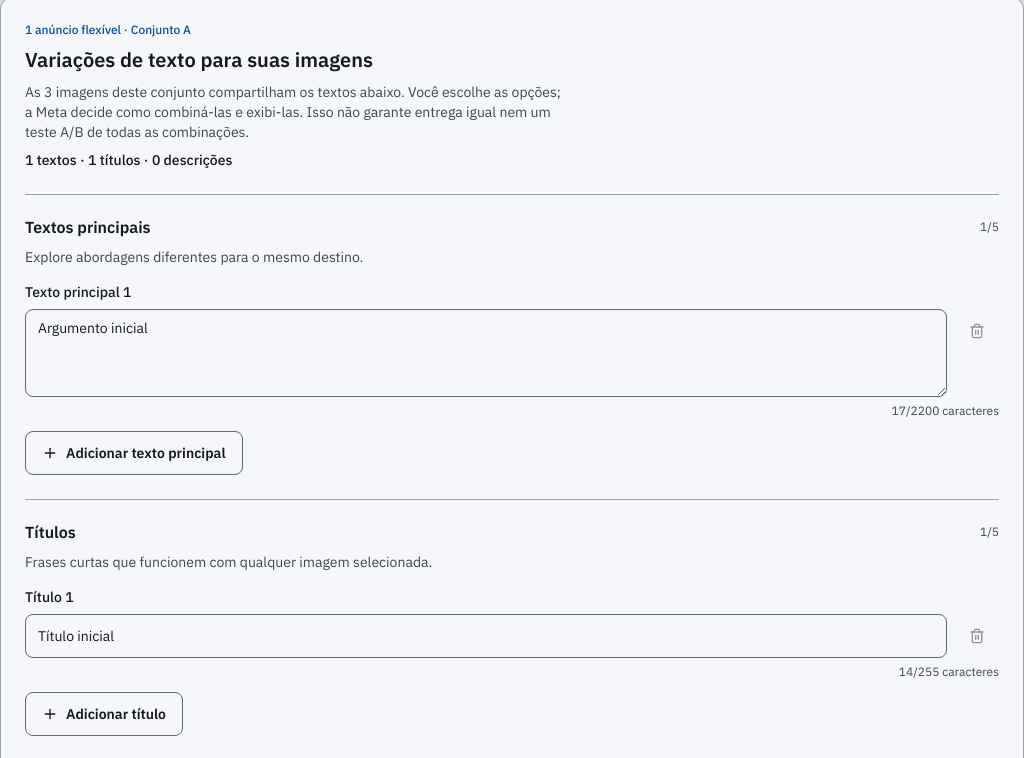
Test: adiciona opção e foca o novo campo (textarea/input), inclusive a 5ª opção
Click the button "Adicionar texto principal": (134,453) x1=25 y1=431 x2=243 y2=475
(page scrolled)
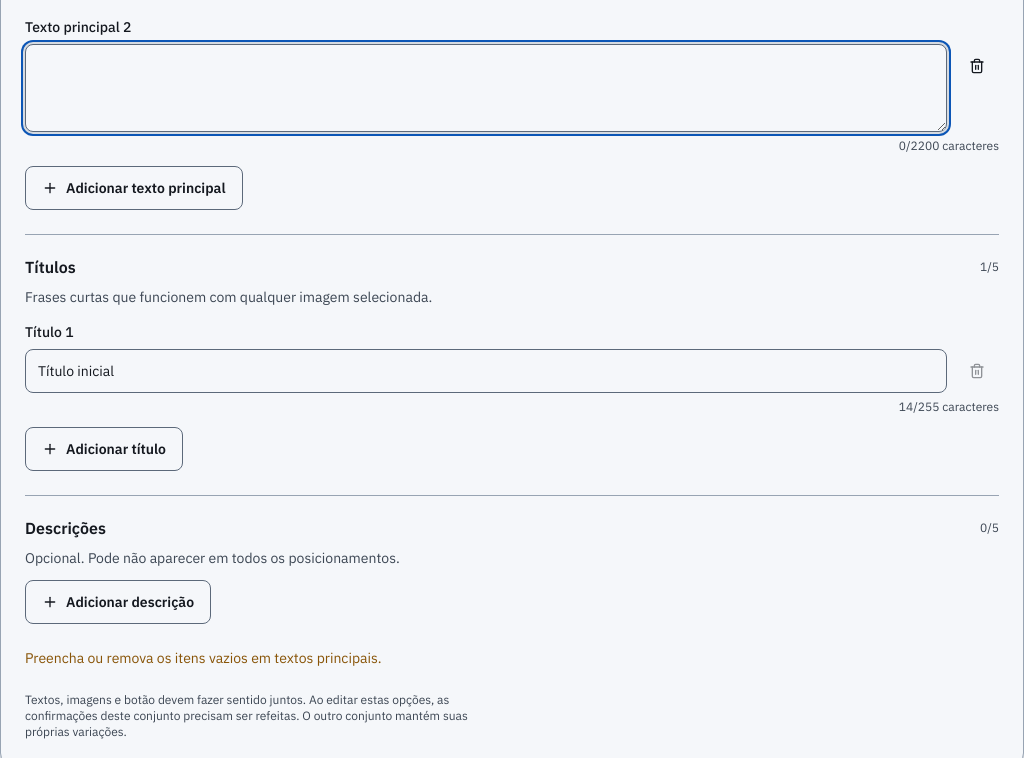
Click the button "Adicionar título": (104,449) x1=25 y1=427 x2=183 y2=471
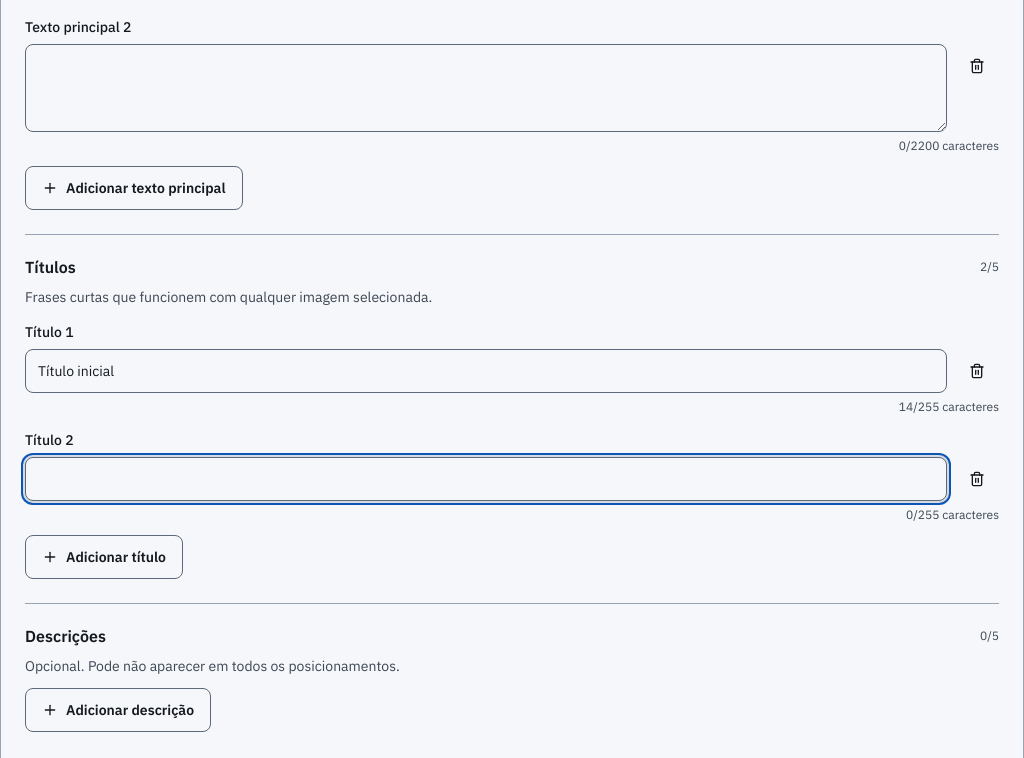
Click the button "Adicionar título": (104,557) x1=25 y1=535 x2=183 y2=579
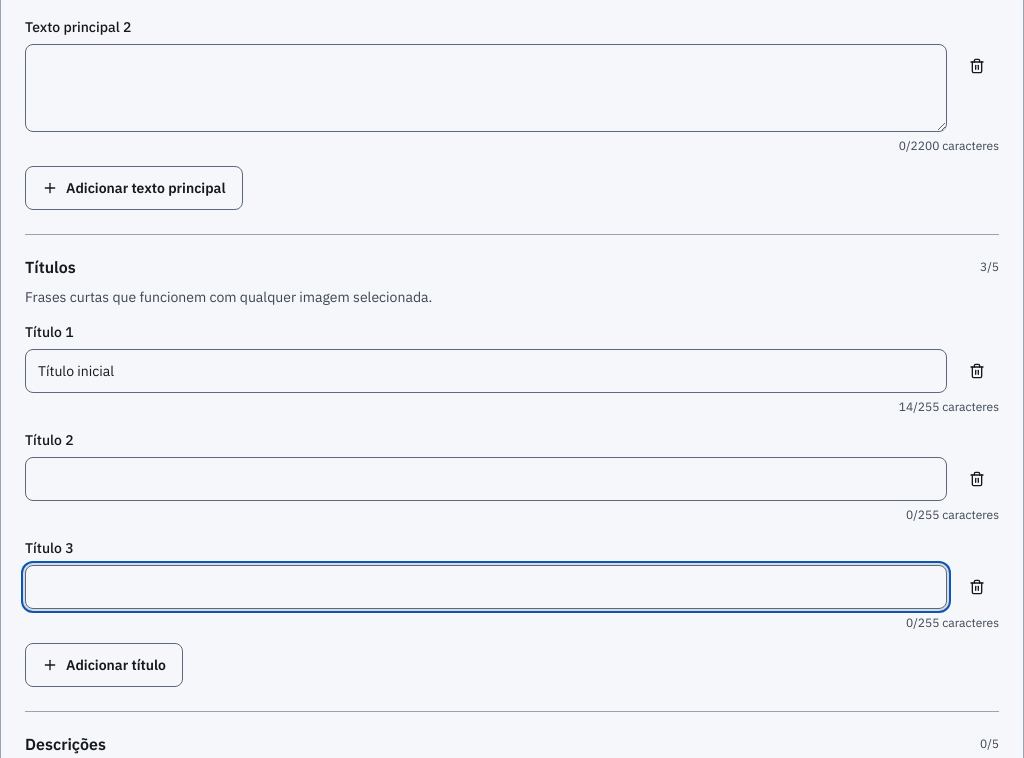
Click the button "Adicionar título": (104,665) x1=25 y1=643 x2=183 y2=687
(page scrolled)
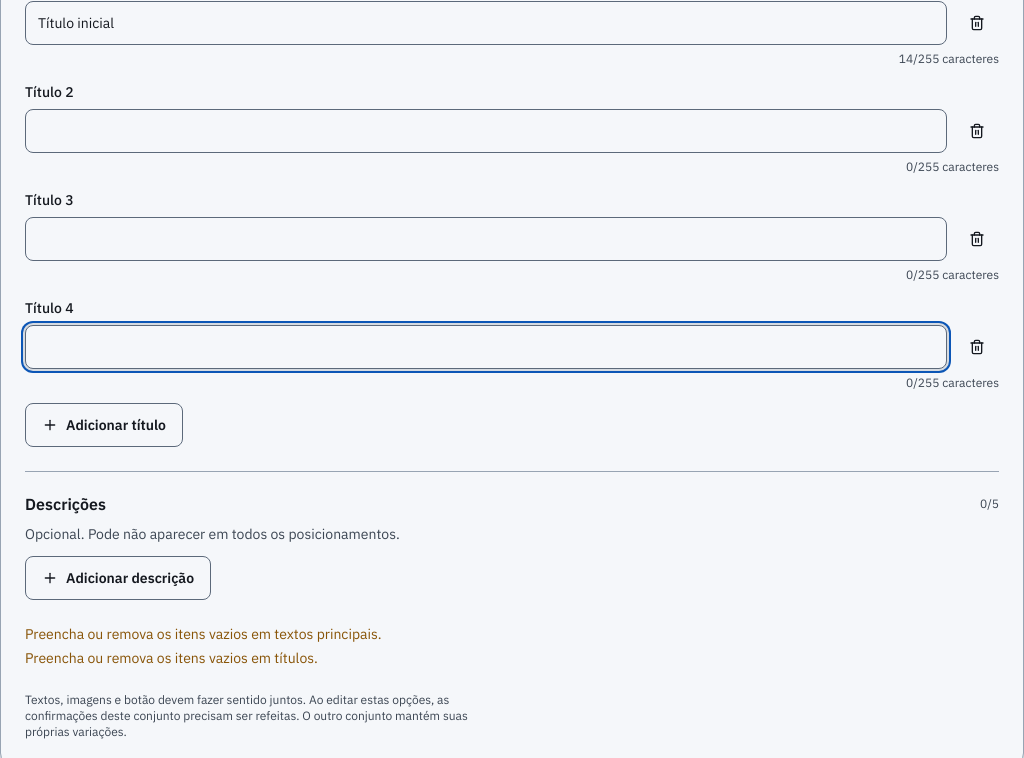
Click the button "Adicionar título": (104,425) x1=25 y1=403 x2=183 y2=447
(page scrolled)
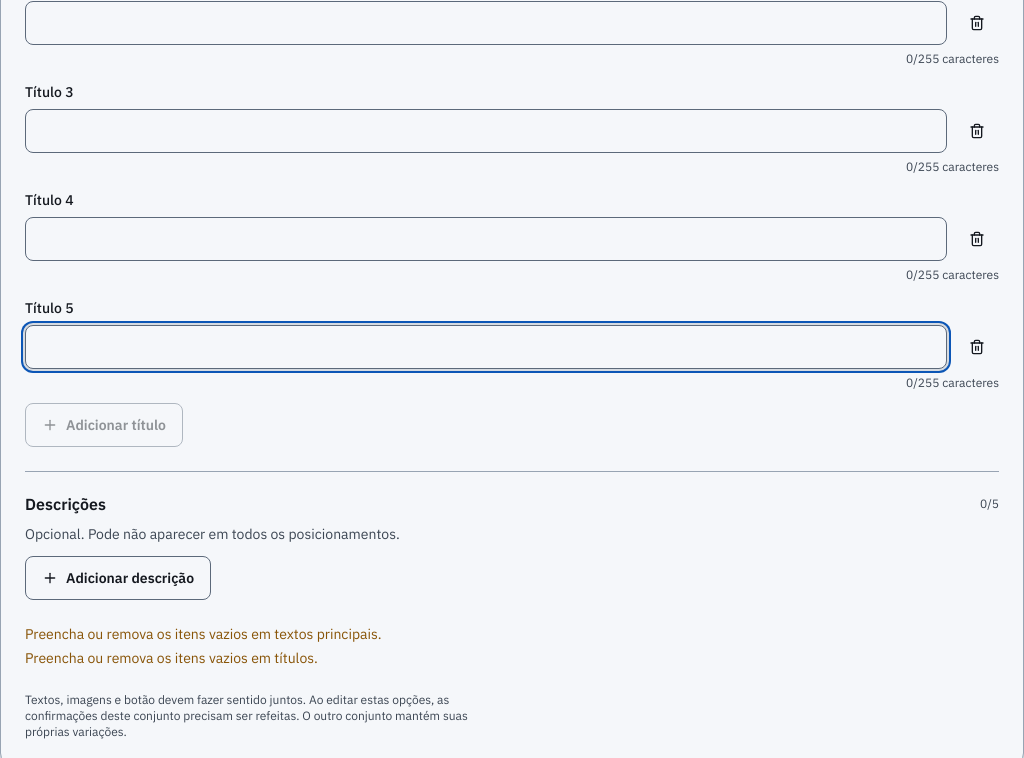
Check: the button "Adicionar título" is disabled, box x1=25 y1=403 x2=183 y2=447
